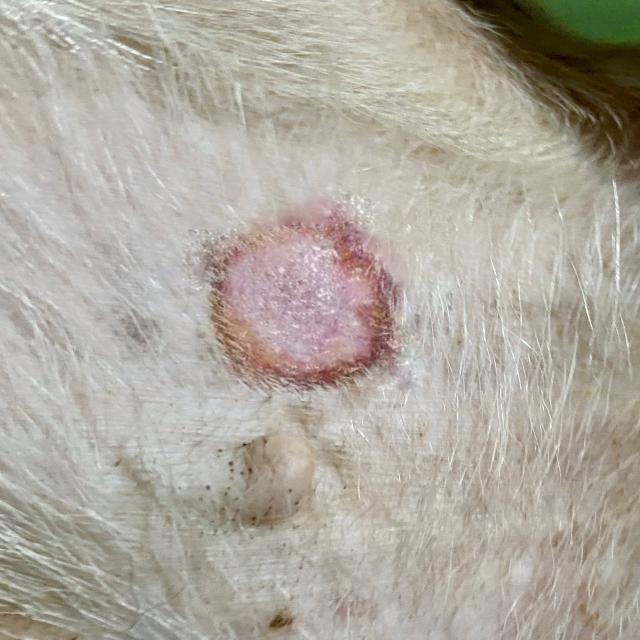ringworm: (187, 188, 416, 410)
